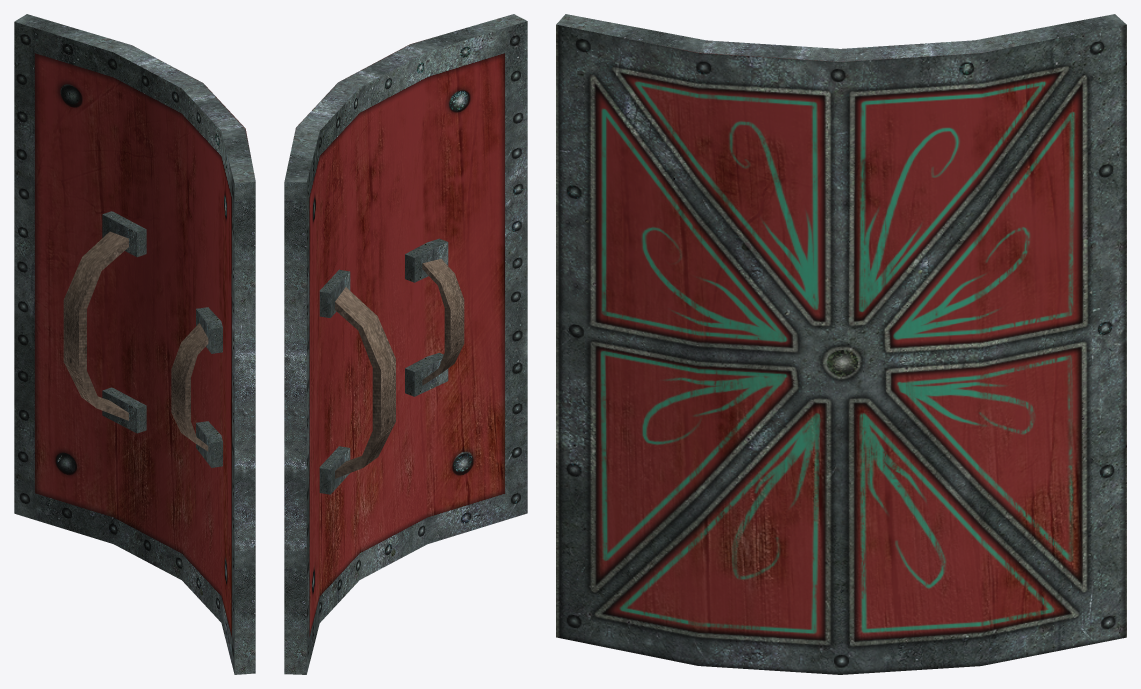
Rendered from shield_02.FBX.
3 renders of one model, left to right at view 1: azimuth 30°, elevation 25°; view 2: azimuth 150°, elevation 25°; view 3: azimuth 270°, elevation 25°, orthographic. The views are drawn at different scales.
Parts seen in each view (by area): view 1: square_shield_02; view 2: square_shield_02; view 3: square_shield_02.
Part boxes in pixels (box(x1,y1,x2,y2)): square_shield_02: box(14, 14, 255, 674); square_shield_02: box(284, 14, 527, 674); square_shield_02: box(556, 14, 1126, 674).
Bounding box in the file's own units: 14.1 × 72.51 × 61.2.
